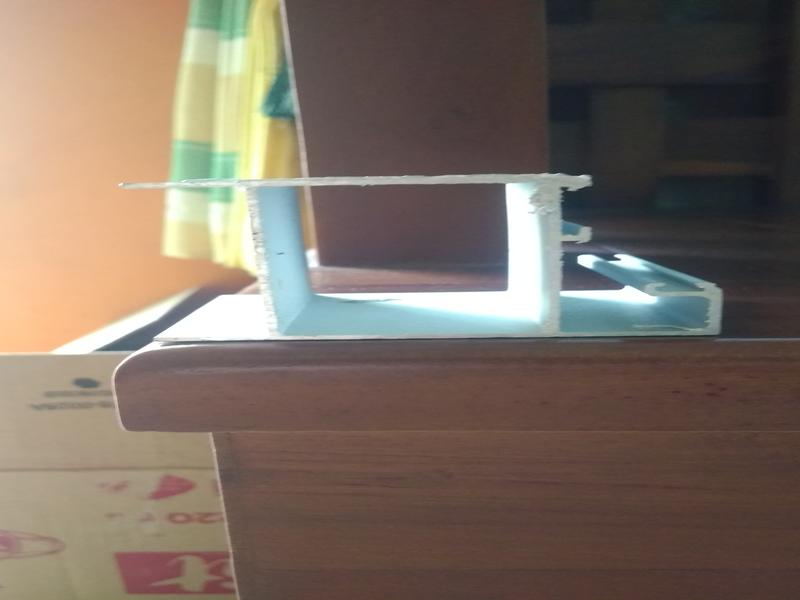Aluminium_2: (98, 163, 749, 344)
